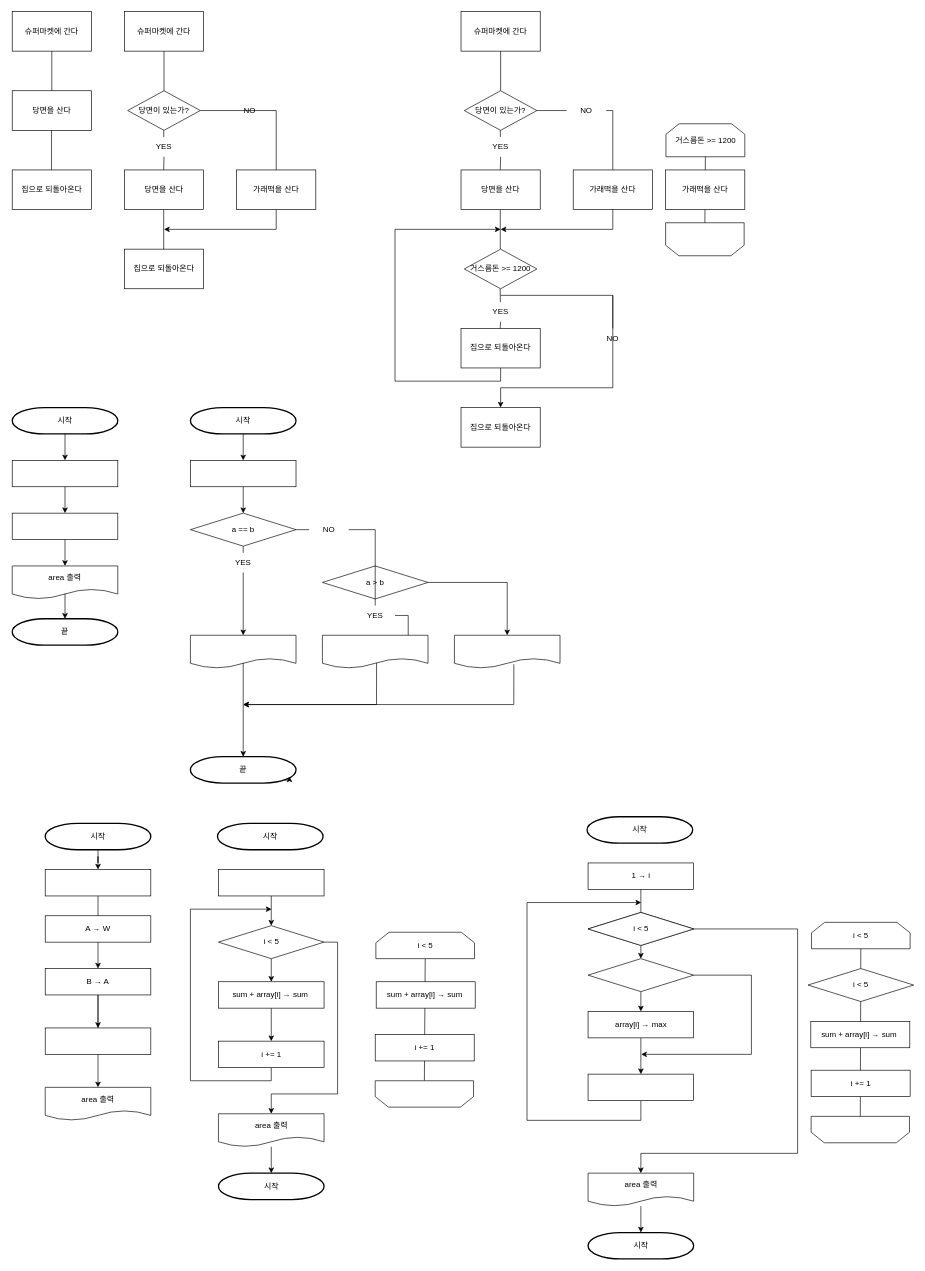
Image size: 925x1271. Some labels were removed from this diagram. Each missing label, with the centre of its shape:
"a와 b는 같다" 출력: pixel 243 651
0 → sum, 0 → i: pixel 271 882
11 → A, B → 55, W: pixel 98 882
a 출력: pixel 375 651
array[i] > max: pixel 640 975
a와 b를 입력: pixel 243 473
b 출력: pixel 507 651
base * height / 2.0 → area: pixel 65 526
base와 height를 입력: pixel 65 473
i + 1 → i: pixel 640 1087
W → A: pixel 98 1040
